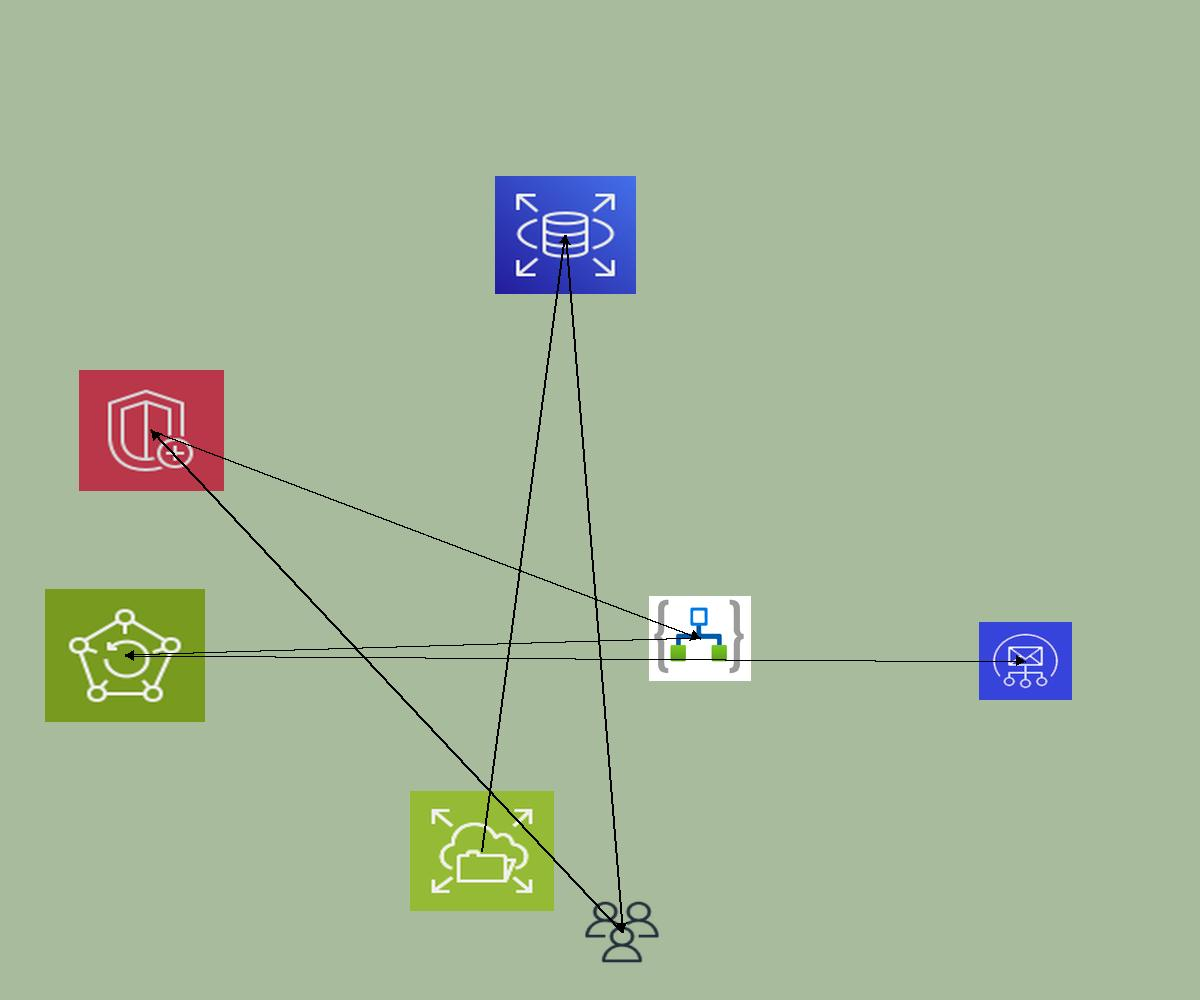AWS-Backup: (45, 589, 205, 722)
AWS-EFS: (410, 791, 554, 911)
AWS-RDS: (495, 176, 636, 294)
AWS-Res_Users: (582, 899, 662, 965)
AWS-Shield: (79, 370, 224, 491)
AWS-Simple-Email-Service: (979, 622, 1072, 700)
Azure_integration-204-Logic-Apps: (649, 596, 751, 681)
